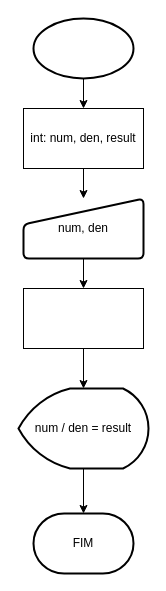
The diagram is 166 pixels wide and 591 high, and some of its shapes have lost their labels. The shapes that lost their labels are listed below. From the top down, each one's box as (x1, y1, x2, y2) in pixels, then its label:
(32, 17, 134, 79): Início
(22, 288, 144, 348): result = num / den
